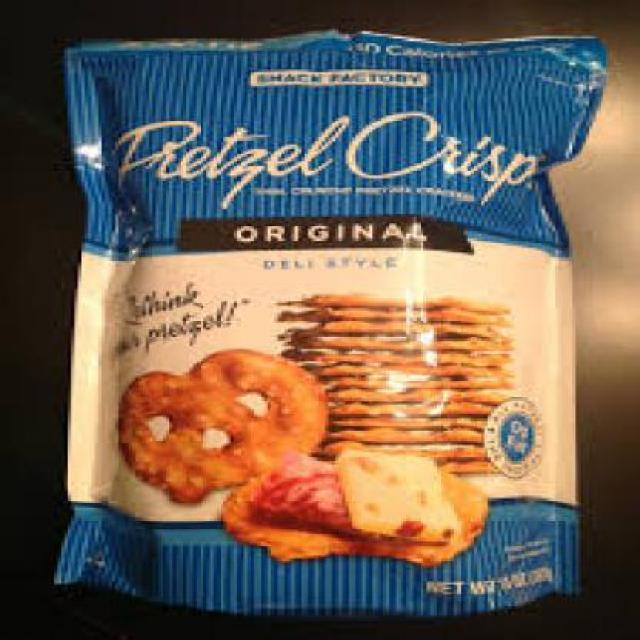Salatini: (56, 16, 590, 618)
